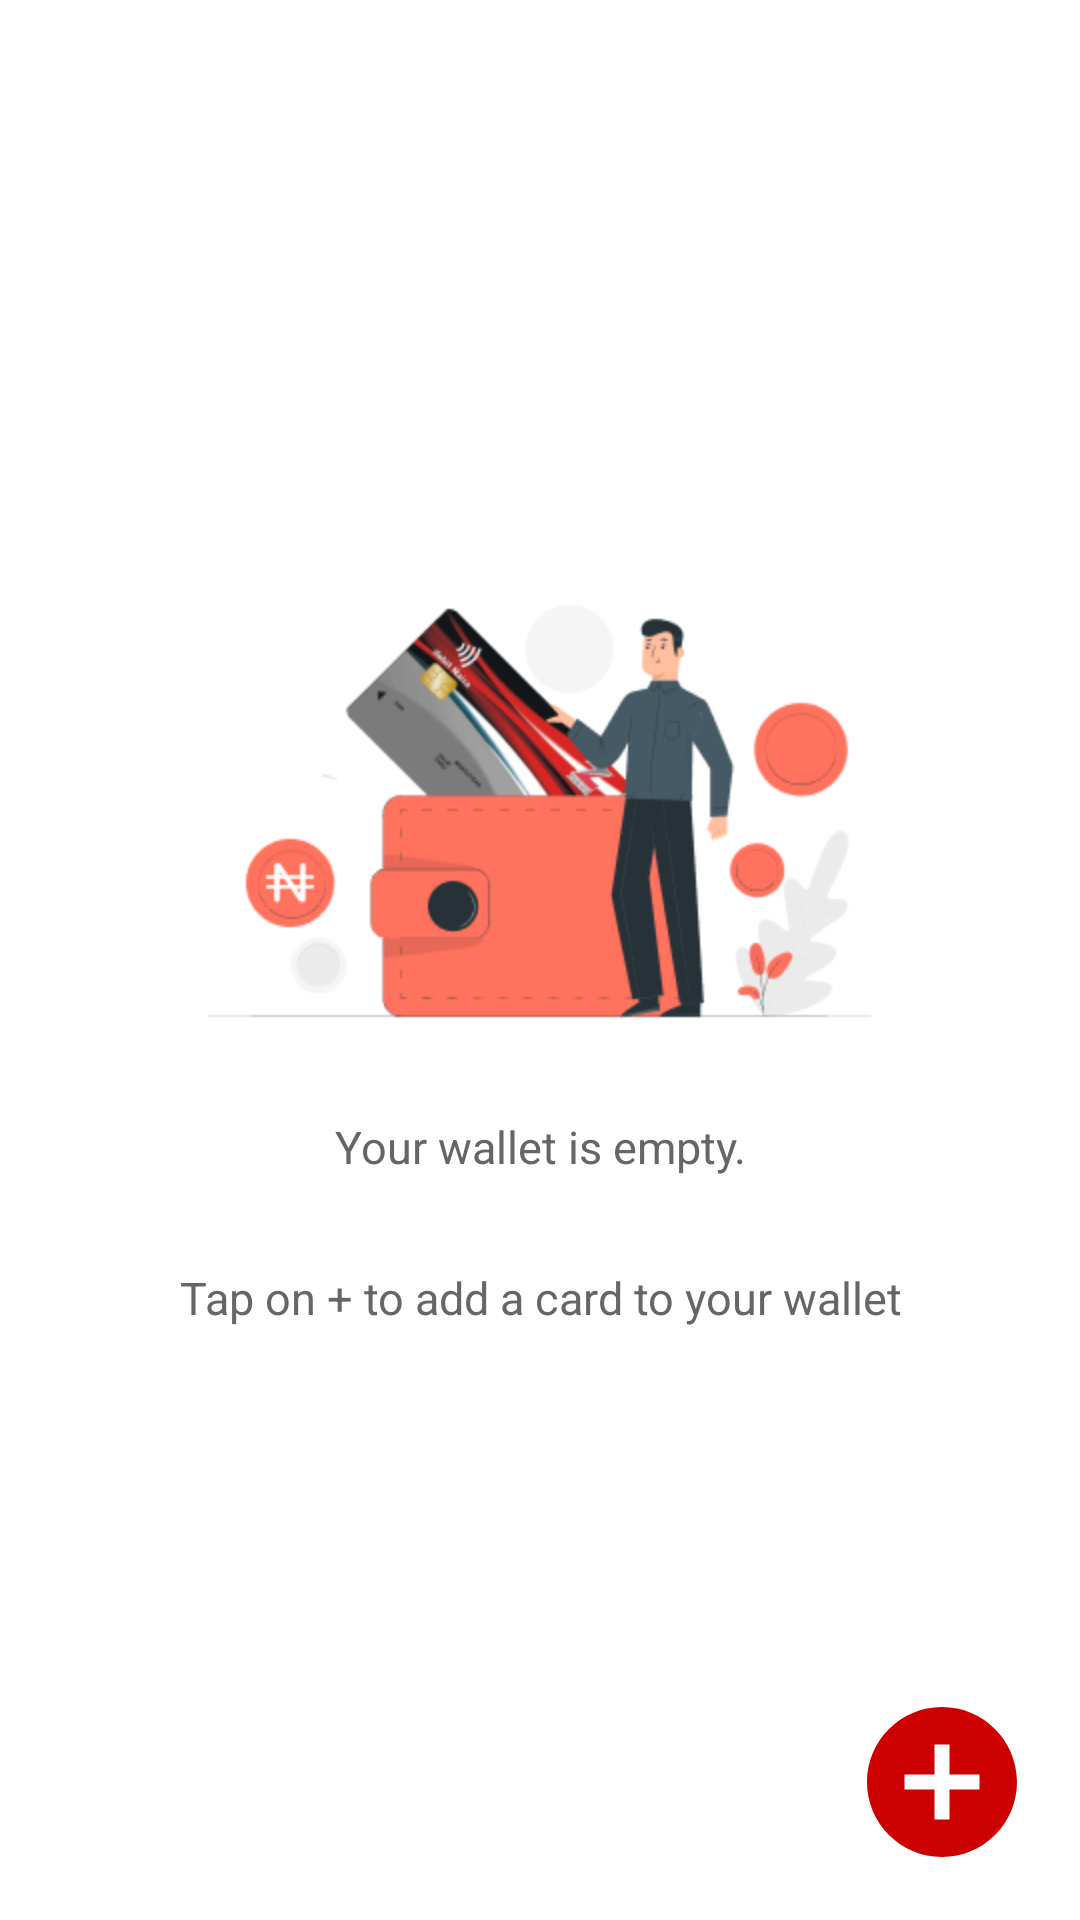

Point at icon controls on the screen. Image size 1080×1920, points as (x,y).
Card enrollment: (942,1782)
